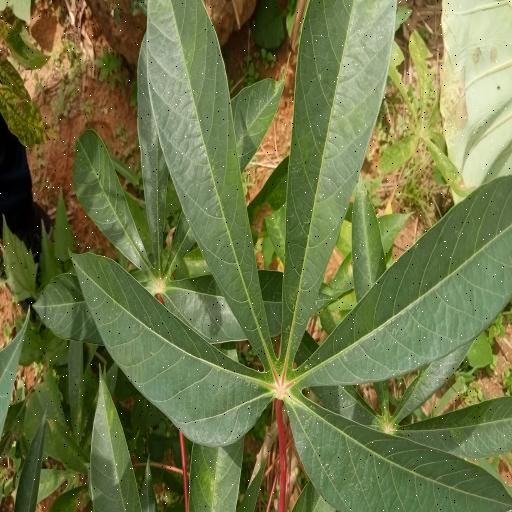Cassava_Healthy: (68, 1, 512, 512)
